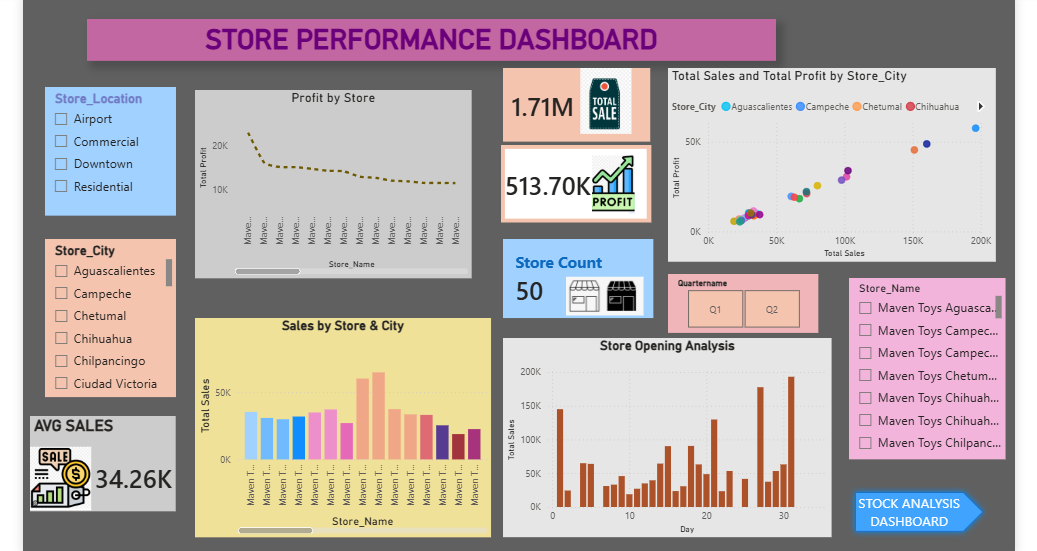

The dashboard page shown, as its layout file describes it:
{"tool":"powerbi","page":{"name":"Page 3","canvas":[1280,720],"ordinal":2},"visuals":[{"type":"textbox","title":"STORE PERFORMANCE DASHBOARD","box":[82.3,30.2,888.6,53.8],"z":0},{"type":"slicer","fields":{"Values":["Date Table.Quartername"]},"box":[832.8,359.2,193.7,75.7],"z":1000},{"type":"slicer","fields":{"Values":["maven_toys stores.Store_City"]},"box":[28.2,313.4,169,204.2],"z":2000},{"type":"slicer","fields":{"Values":["maven_toys stores.Store_Name"]},"box":[1065.2,364.5,202.5,234.2],"z":3000},{"type":"slicer","fields":{"Values":["maven_toys stores.Store_Location"]},"box":[28.2,118,169,165.5],"z":4000},{"type":"cardVisual","fields":{"Data":["A Measures.Store Count"]},"box":[619.8,313.4,193.7,102.1],"z":5000},{"type":"cardVisual","fields":{"Data":["A Measures.Total Sales"]},"box":[619.8,93.3,190.2,95.1],"z":6000},{"type":"cardVisual","fields":{"Data":["A Measures.Total Profit"]},"box":[616.2,191.9,193.7,100.4],"z":7000},{"type":"cardVisual","title":"AVG SALES","fields":{"Data":["A Measures.Avg Sales Per Store"]},"box":[8.8,542.3,188.4,123.2],"z":8000},{"type":"lineStackedColumnComboChart","title":"Sales by Store & City","fields":{"Category":["maven_toys stores.Store_Name","maven_toys stores.Store_City"],"Y":["A Measures.Total Sales"]},"box":[221.8,415.5,382.1,283.5],"z":9000},{"type":"lineChart","title":"Profit by Store","fields":{"Category":["maven_toys stores.Store_Name"],"Y":["A Measures.Total Profit"]},"box":[221.8,121.5,357.4,243],"z":10000},{"type":"scatterChart","fields":{"X":["A Measures.Total Sales"],"Y":["A Measures.Total Profit"],"Series":["maven_toys stores.Store_City"]},"box":[832.8,93.3,422.6,250],"z":11000},{"type":"columnChart","title":"Store Opening Analysis","fields":{"Category":["maven_toys stores.Store_Open_Date.Variation.Date Hierarchy.Day"],"Y":["A Measures.Total Sales"]},"box":[619.8,441.9,424.3,257.1],"z":12000},{"type":"shape","box":[1065.2,632.1,181.3,66.9],"z":13000},{"type":"image","box":[734.2,200.7,54.6,82.8],"z":14000},{"type":"image","box":[716.6,93.3,72.2,84.5],"z":15000},{"type":"image","box":[8.8,581,79.2,84.5],"z":16000},{"type":"image","box":[700.7,343.3,100.4,88],"z":17000}]}

Visuals, with their boxes in screenshot pixels (x1, y1, x2, y2):
"STORE PERFORMANCE DASHBOARD" textbox: BBox(81, 16, 776, 58)
slicer - Date Table.Quartername: BBox(668, 273, 819, 332)
slicer - maven_toys stores.Store_City: BBox(38, 237, 170, 397)
slicer - maven_toys stores.Store_Name: BBox(850, 277, 1008, 460)
slicer - maven_toys stores.Store_Location: BBox(38, 84, 170, 214)
cardVisual - A Measures.Store Count: BBox(501, 237, 653, 317)
cardVisual - A Measures.Total Sales: BBox(501, 65, 650, 139)
cardVisual - A Measures.Total Profit: BBox(498, 142, 650, 221)
"AVG SALES" cardVisual: BBox(23, 416, 170, 513)
"Sales by Store & City" lineStackedColumnComboChart: BBox(190, 317, 489, 539)
"Profit by Store" lineChart: BBox(190, 87, 469, 277)
scatterChart - A Measures.Total Sales x A Measures.Total Profit: BBox(668, 65, 998, 260)
"Store Opening Analysis" columnChart: BBox(501, 338, 833, 539)
shape: BBox(850, 486, 991, 539)
image: BBox(591, 149, 633, 214)
image: BBox(577, 65, 633, 131)
image: BBox(23, 446, 85, 513)
image: BBox(564, 260, 643, 329)
